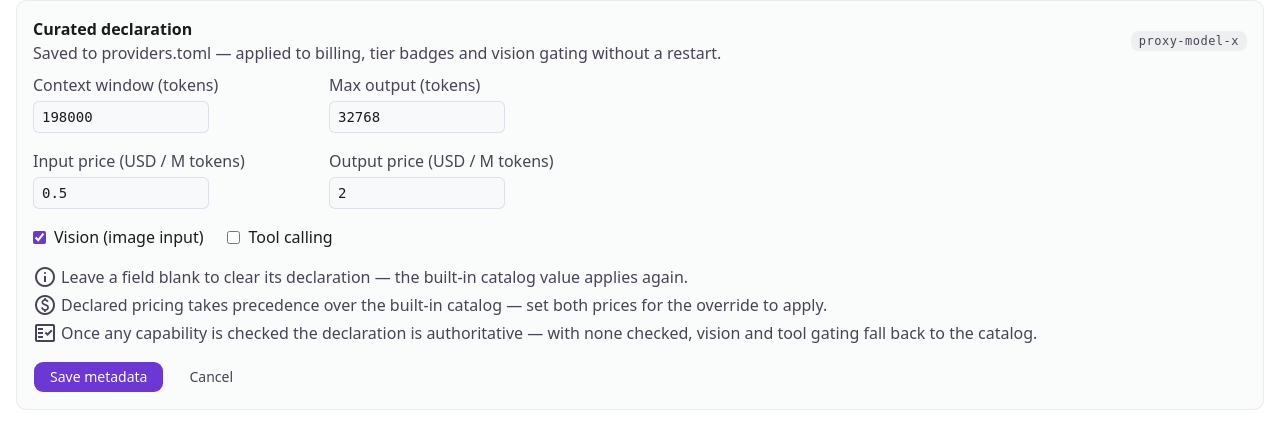
Test: ModelMetaEditor › recovers after a fix: valid input clears the errors and saves
The width and height of the screenshot is (1280, 443).
Replace the text in the number field with test id "meta-editor-price-out" with "-1" at (417, 193), box x1=329 y1=177 x2=505 y2=209
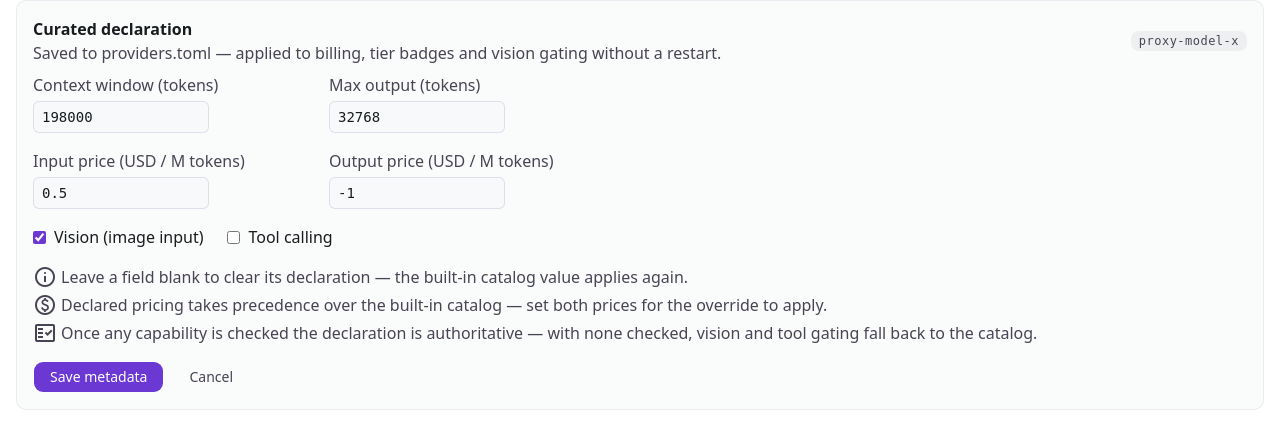
Click the button with test id "meta-editor-save" at (99, 377), box x1=33 y1=361 x2=164 y2=393
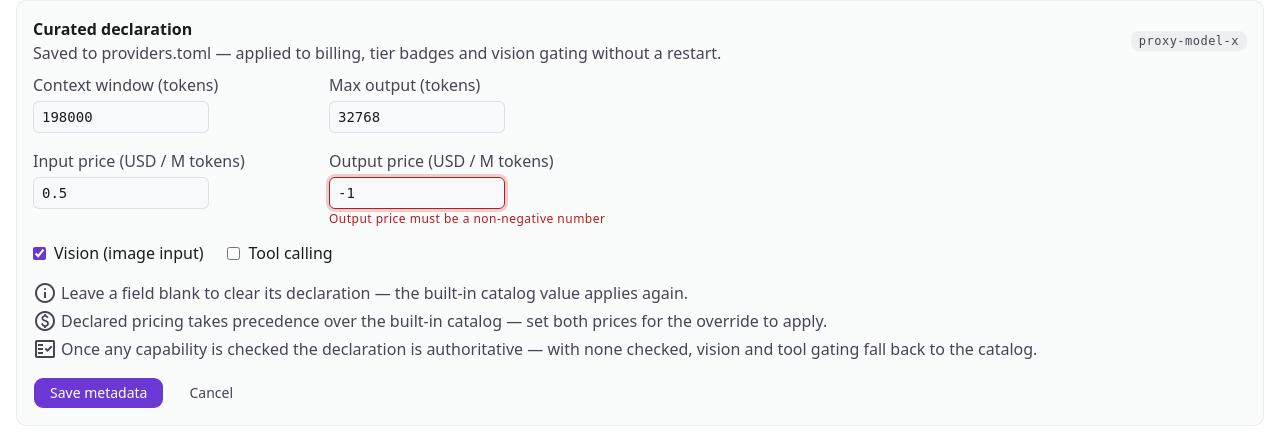
Replace the text in the number field with test id "meta-editor-price-out" with "3" at (417, 193), box x1=329 y1=177 x2=505 y2=209
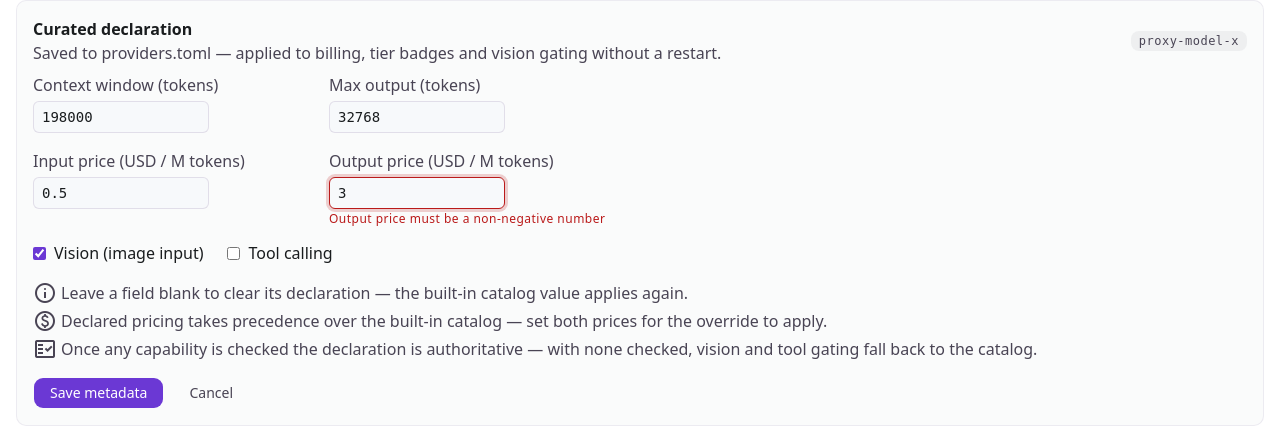
Click the button with test id "meta-editor-save" at (99, 393), box x1=33 y1=377 x2=164 y2=409
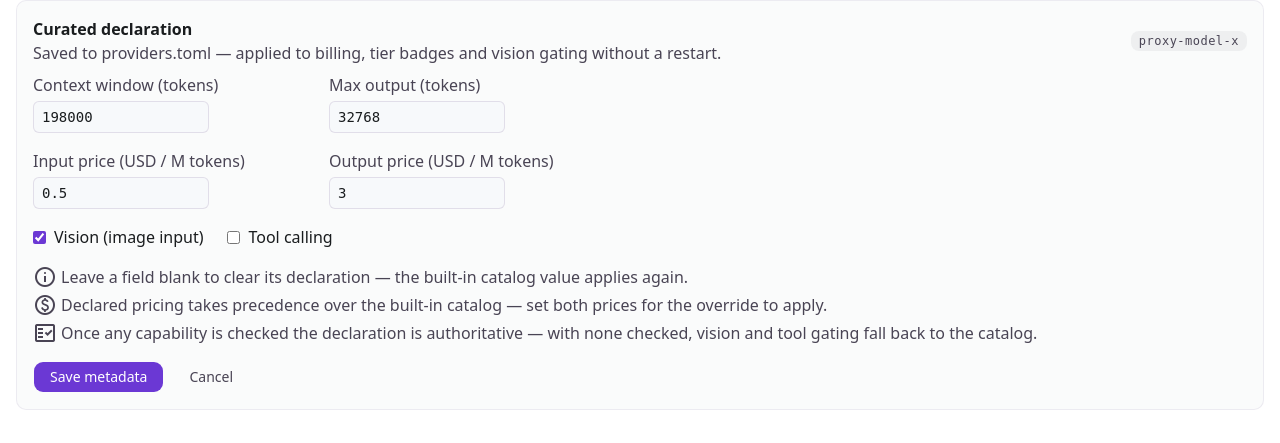
Check: the message with test id "meta-editor-price-out-error" is gone
